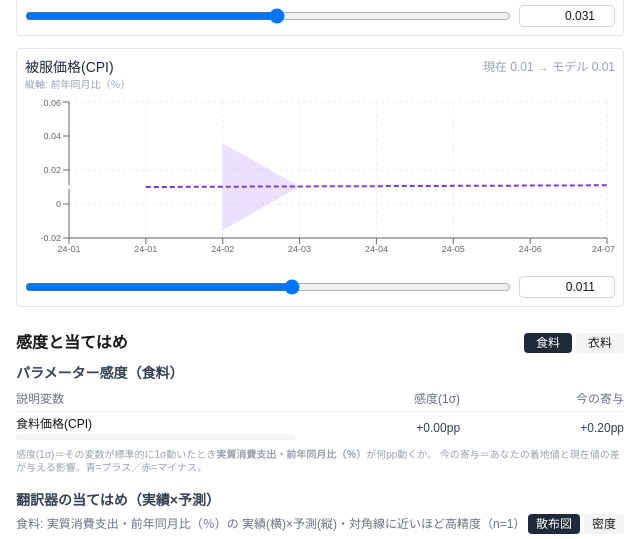
Test: Simulator interactions › shows the parameter sensitivity table and switches analysis category
(page scrolled)
Expected: the element with test id "sensitivity-table" shows "食料価格(CPI)", [16,417,92,431]
Click the button "衣料" at (600, 343), box [576,333,624,353]
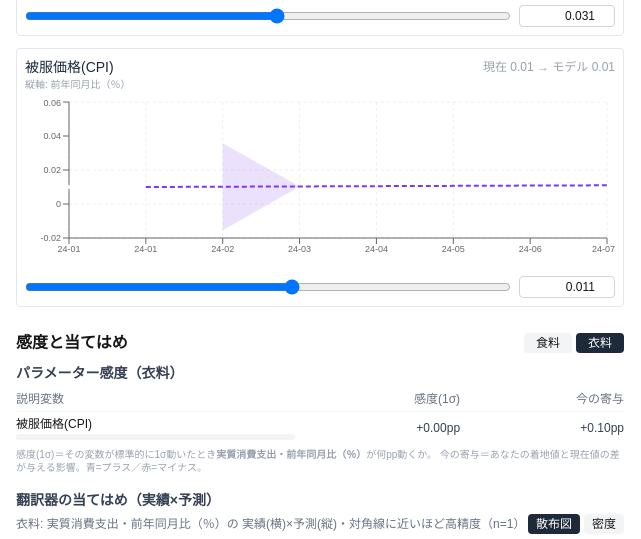
Now the element with test id "sensitivity-table" shows "被服価格(CPI)", box [16,417,92,431]
